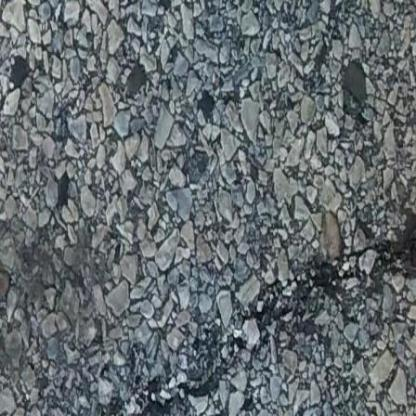Cracks: (106, 216, 416, 413)
